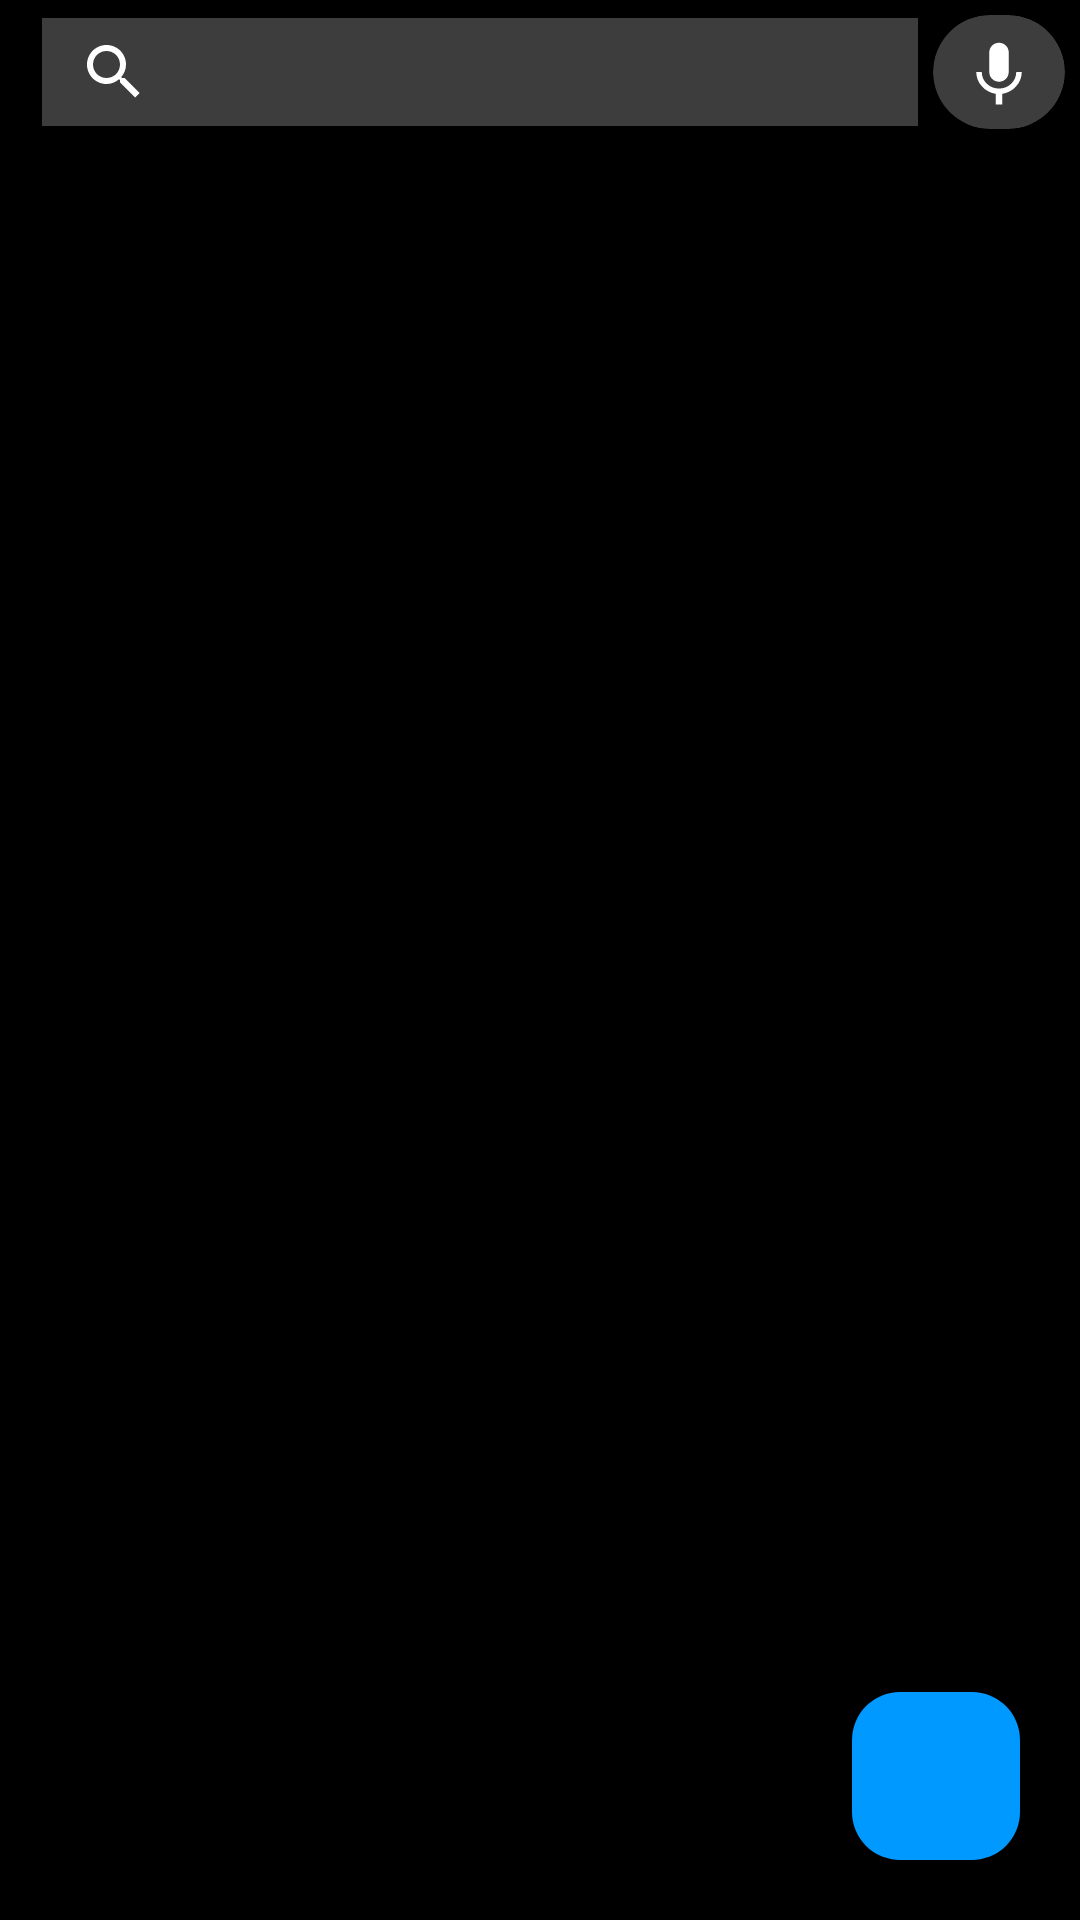

Point at icon controls on the screen. Image size 1080 × 1920, points as (x,y).
keyboard voice: (999,73)
